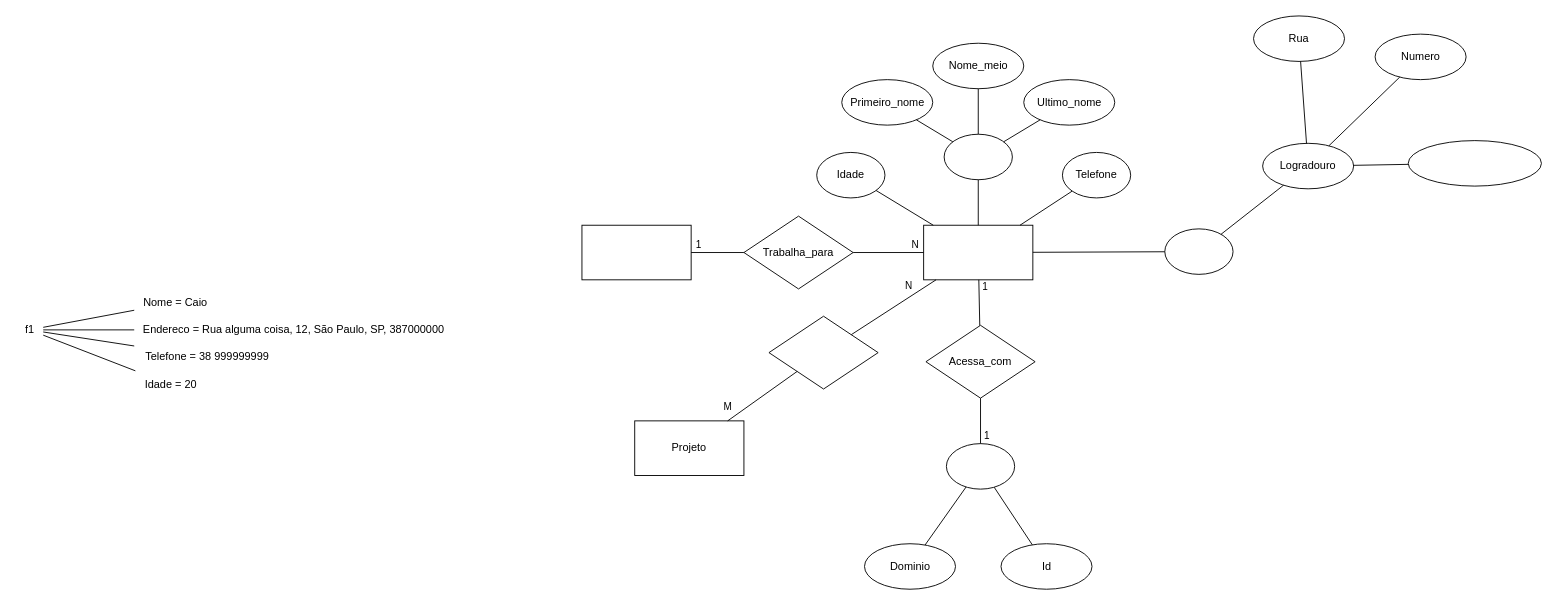
Some shapes in this 1557 by 605 pixel diagram are drawn without their labels. Here are the shapes that lost their labels. From the top down, the box of each, then its label:
(943, 133, 1012, 180): Nome
(1407, 140, 1541, 186): Numero_apartamento
(581, 224, 691, 280): Departamento
(923, 224, 1033, 280): Funcionario
(1164, 228, 1233, 274): Endereço
(768, 315, 878, 389): Participa_de
(945, 443, 1015, 489): Usuario
